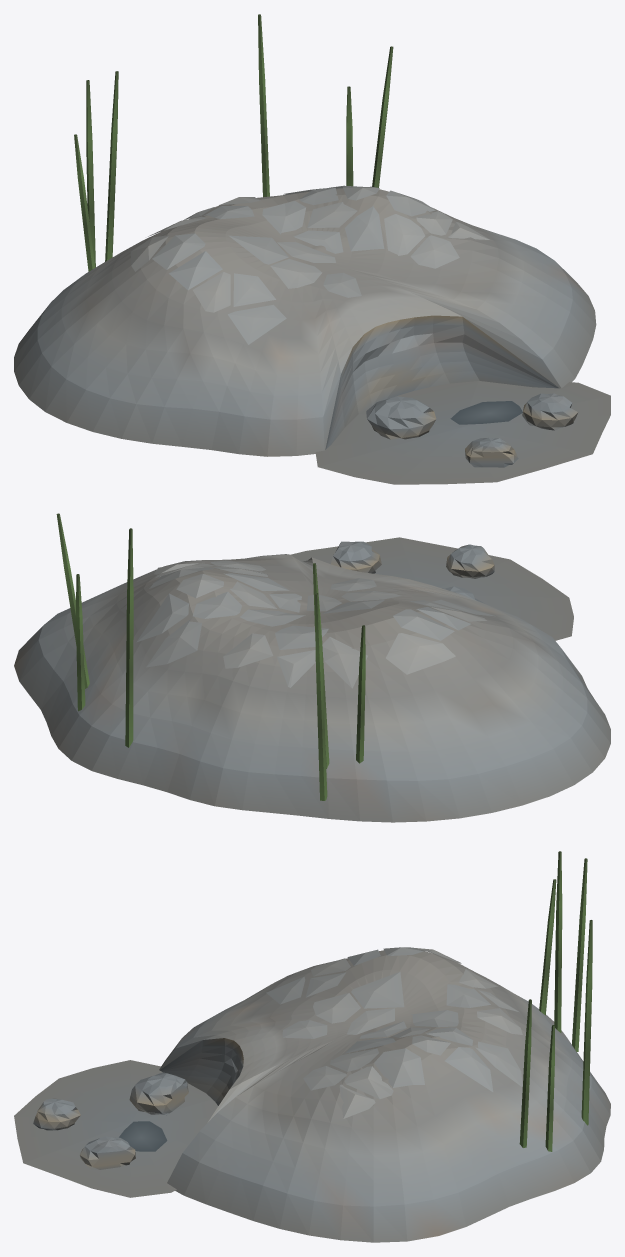
File: clay_bank_a.glb
3 views of the same model, one above another, from view 1: azimuth 30°, elevation 25°; view 2: azimuth 150°, elevation 25°; view 3: azimuth 270°, elevation 25° (orthographic). The views are drawn at different scales.
Visible parts, largest first — view 1: clay_bank_a; view 2: clay_bank_a; view 3: clay_bank_a.
Boxes of the visible parts, x1=… form: clay_bank_a: x1=14, y1=14, x2=610, y2=484; clay_bank_a: x1=14, y1=513, x2=610, y2=822; clay_bank_a: x1=14, y1=851, x2=610, y2=1242.
Size of the model in its own units: 1.09 by 0.4623 by 1.1.
